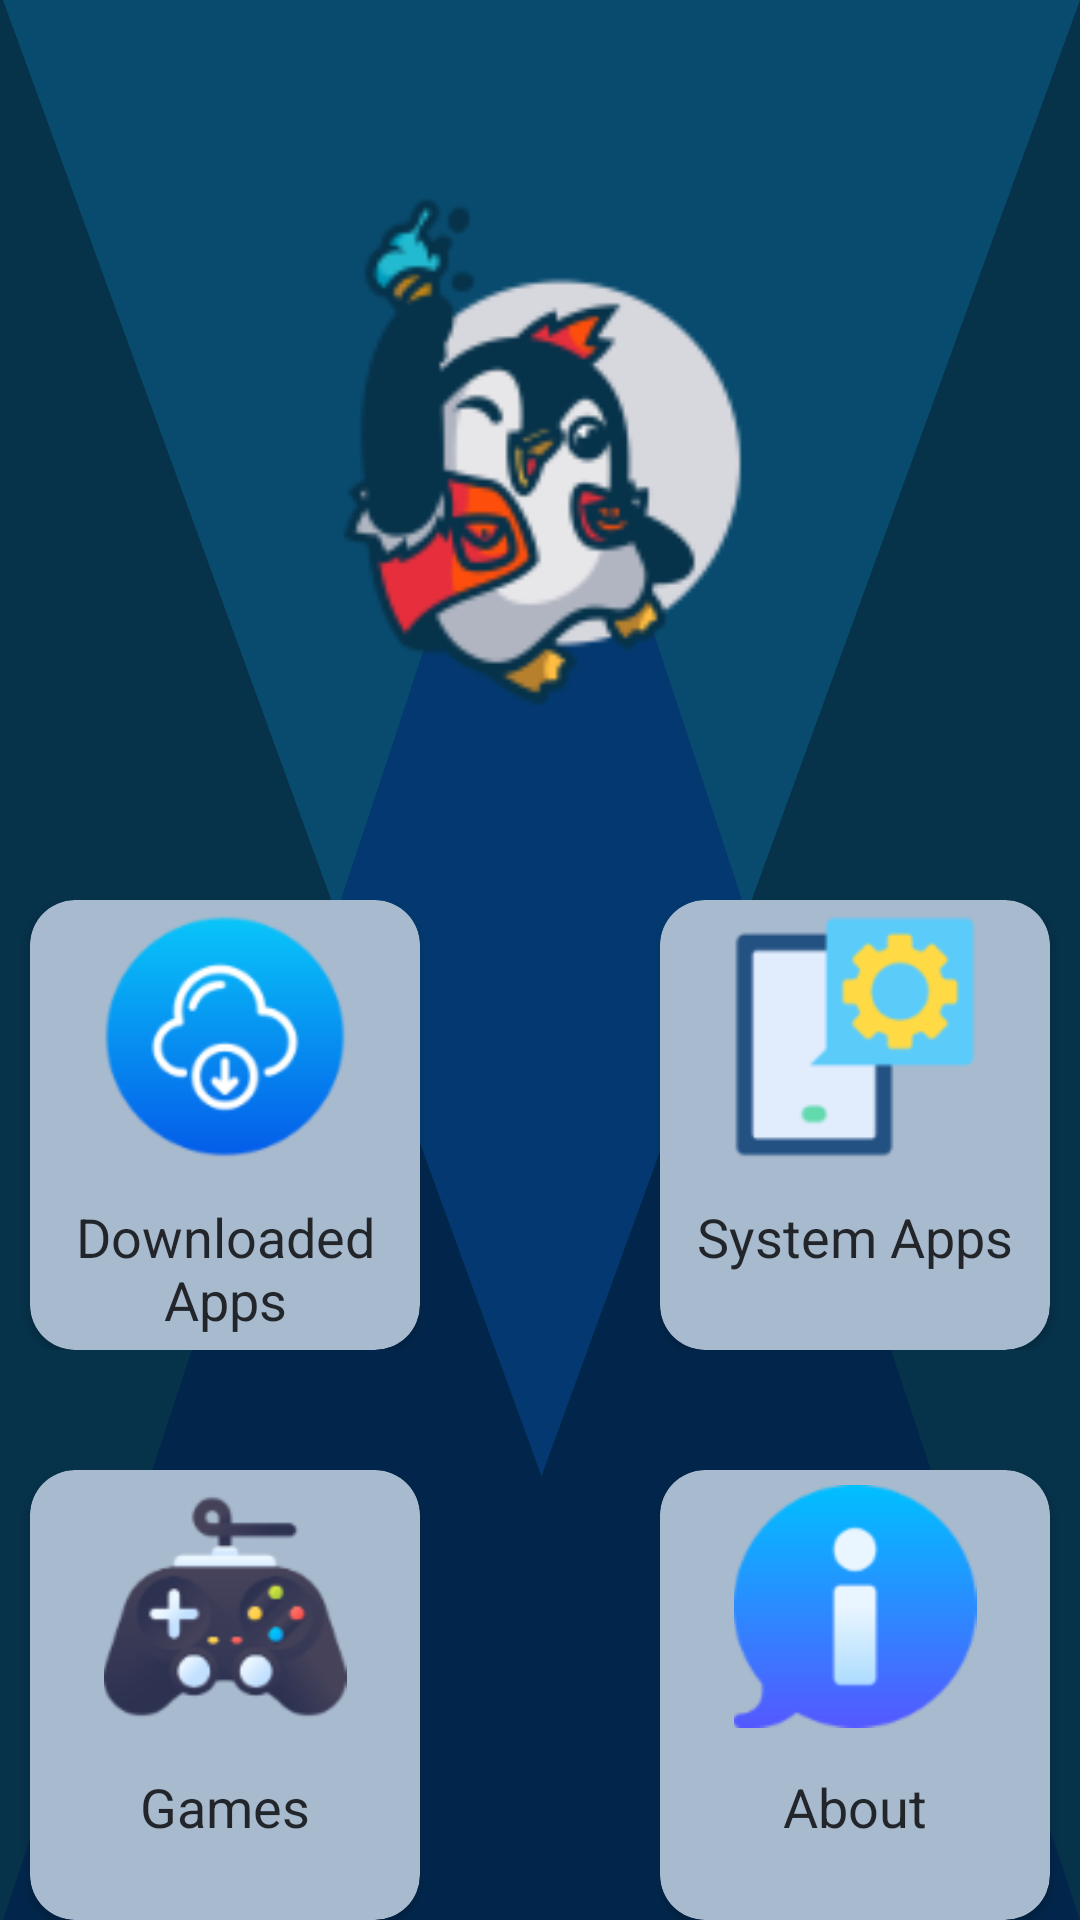

Named icons in this screenshot (1080w x 1920h) and their centers, (x,y):
console home: (225,1606)
